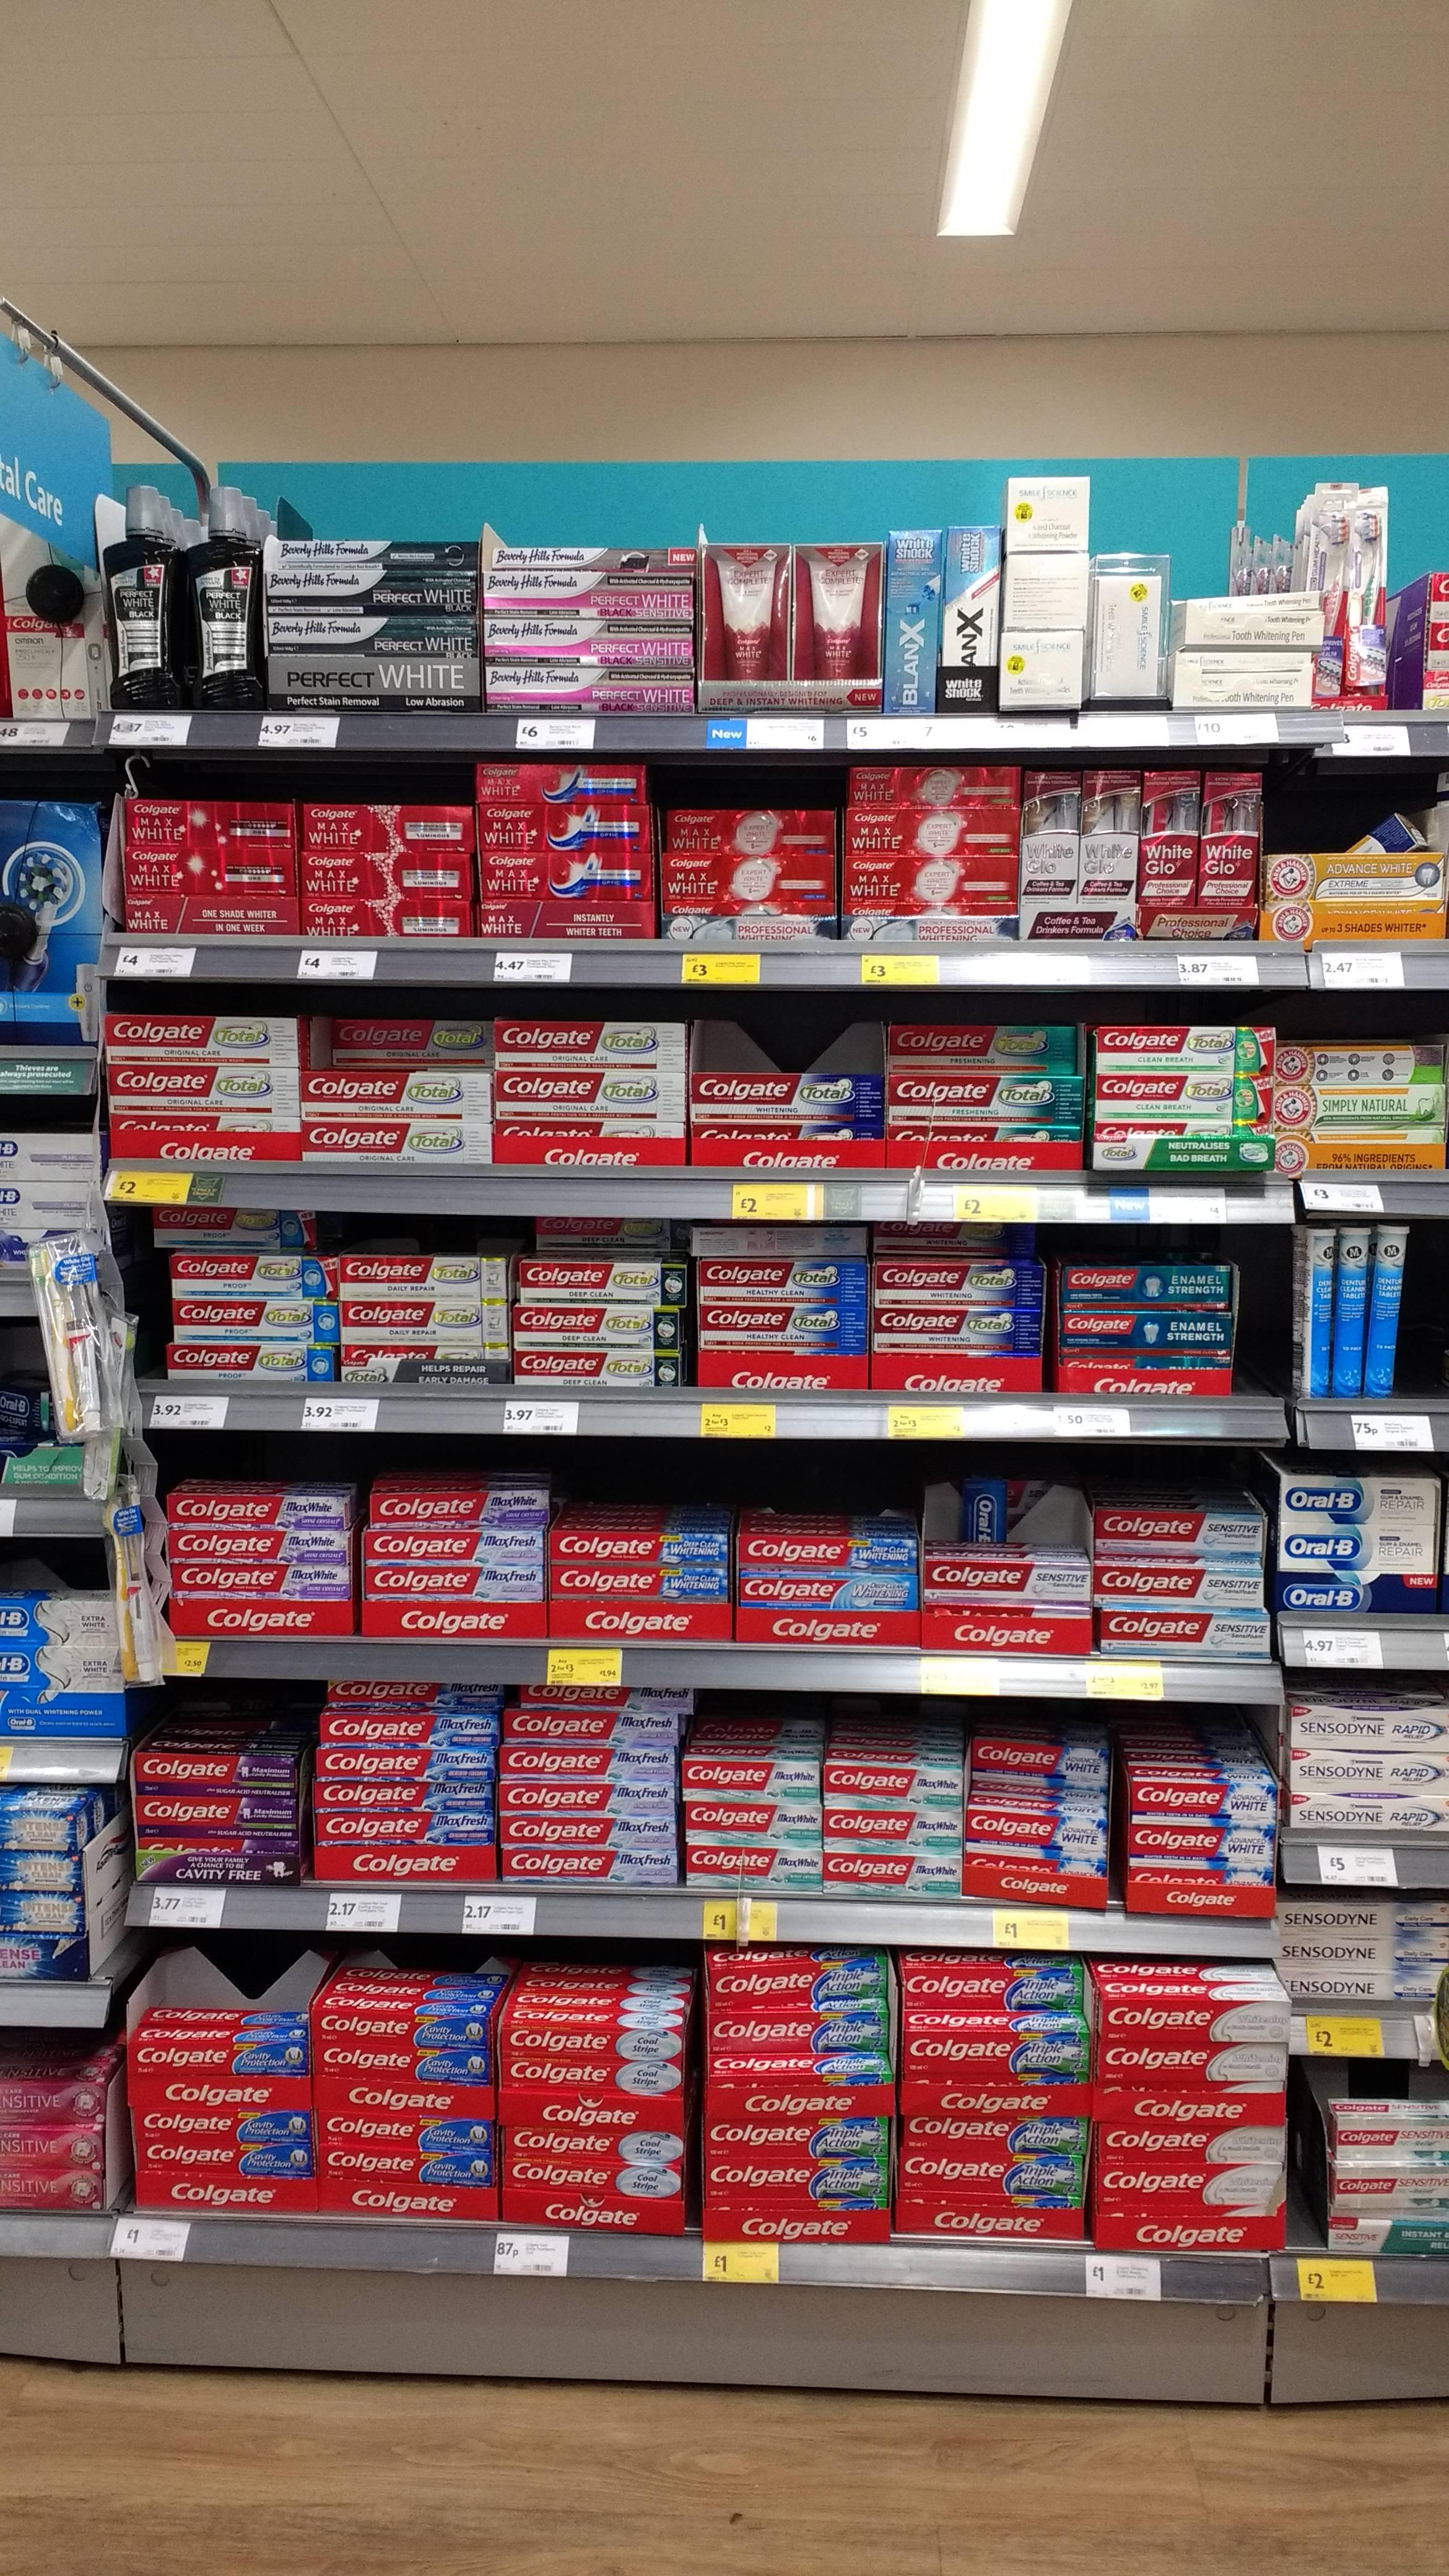misalignment: (1348, 801, 1433, 862), (955, 1486, 1010, 1543)
